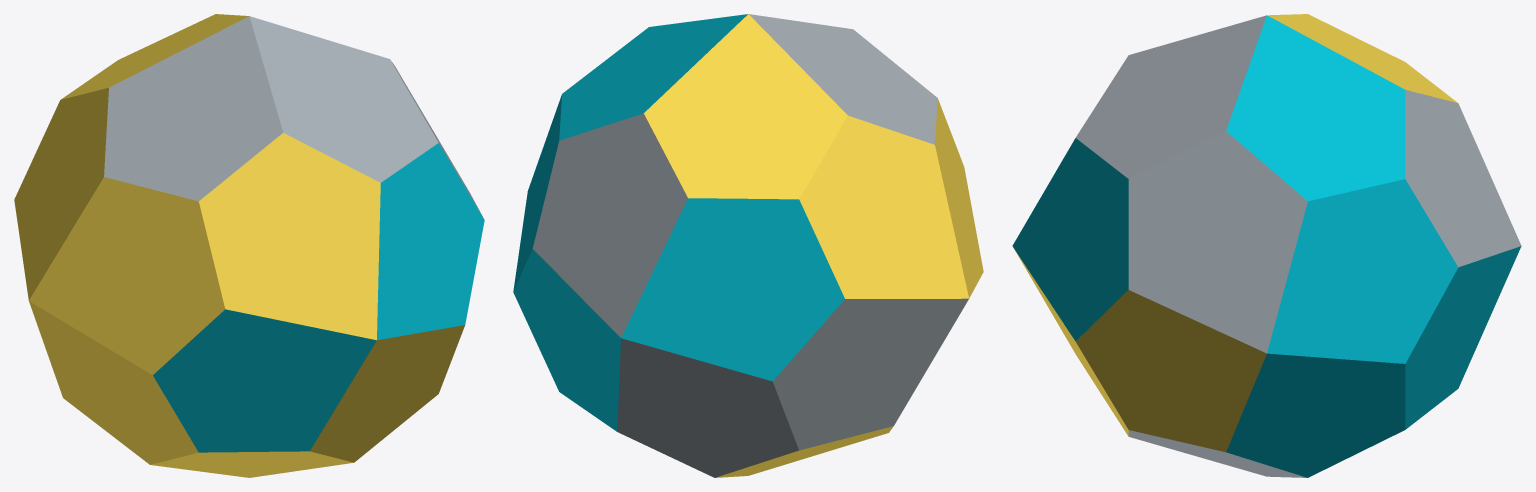
The model's file is PentagonalIcositetrahedron_2.glb.
3 views of the same model, side by side, from view 1: azimuth 30°, elevation 25°; view 2: azimuth 150°, elevation 25°; view 3: azimuth 270°, elevation 25° (orthographic).
Size of the model in its own units: 4.59 by 4.59 by 4.59.
